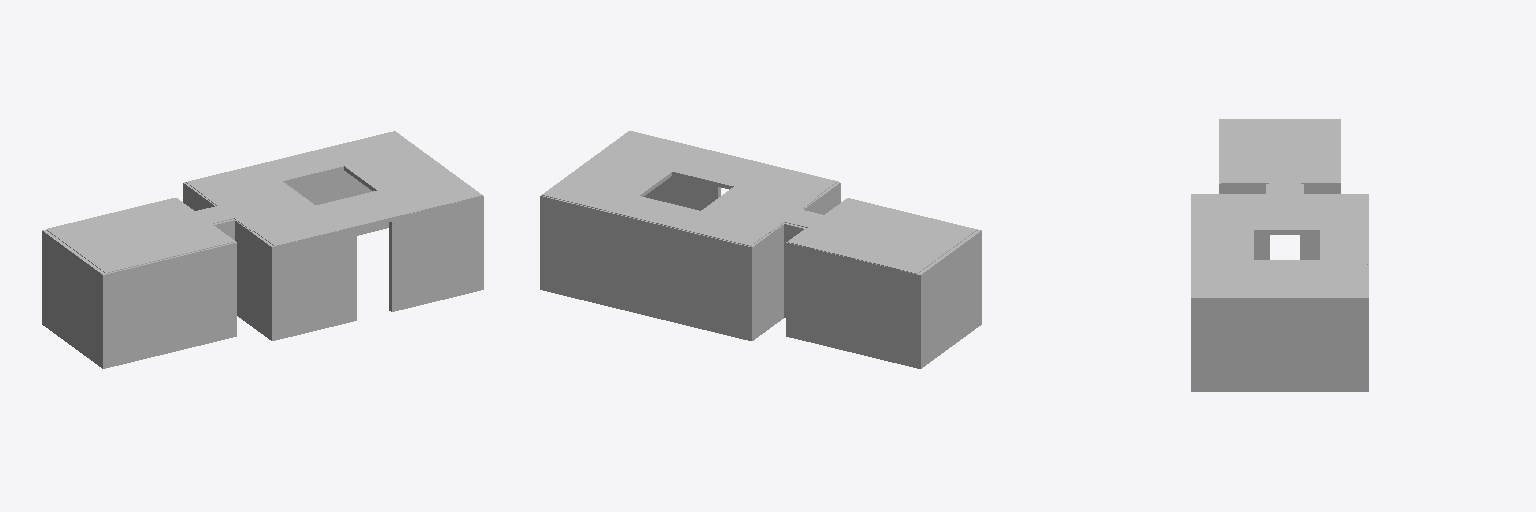
File: Museum.obj
The picture shows the model from 3 angles: view 1: azimuth 30°, elevation 25°; view 2: azimuth 150°, elevation 25°; view 3: azimuth 270°, elevation 25°; orthographic projection.
Parts seen in each view (by area): view 1: Plane_Plane.001; view 2: Plane_Plane.001; view 3: Plane_Plane.001.
Boxes of the visible parts, x1=… form: Plane_Plane.001: x1=42, y1=131, x2=483, y2=368; Plane_Plane.001: x1=540, y1=131, x2=981, y2=368; Plane_Plane.001: x1=1191, y1=119, x2=1368, y2=391.
Bounding box in the file's own units: 8.73 × 2.21 × 3.66.